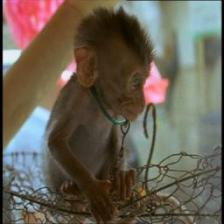monkey: (70, 4, 160, 132)
